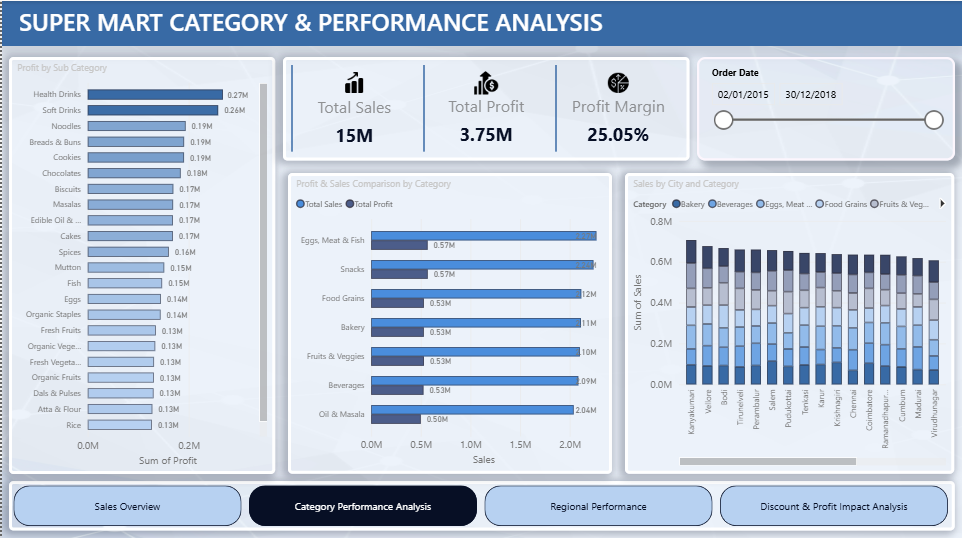

What the dashboard file says about the page in this screenshot:
{"tool":"powerbi","page":{"name":"Category Performance Analysis","canvas":[1280,720],"ordinal":1},"visuals":[{"type":"textbox","box":[0,0,1280,60],"z":0},{"type":"pageNavigator","box":[9.6,640,1260.7,66.1],"z":1000},{"type":"barChart","title":"Profit by Sub Category","fields":{"Category":["Supermart.Sub Category"],"Y":["Sum(Supermart.Profit)"]},"box":[9.6,74.3,355.1,556],"z":2000},{"type":"cardVisual","fields":{"Data":["Supermart.Total Sales","Supermart.Total Profit","Supermart.% Profit"]},"box":[374.4,74.3,542.3,137.6],"z":3000},{"type":"clusteredBarChart","title":"Profit & Sales Comparison by Category","fields":{"Y":["Supermart.Total Sales","Supermart.Total Profit"],"Category":["Supermart.Category"]},"box":[381.2,229.8,432.2,400.5],"z":4000},{"type":"slicer","fields":{"Values":["Supermart.Order Date"]},"box":[926.3,74.3,344.1,137.6],"z":5000},{"type":"columnChart","title":"Sales by City and Category","fields":{"Y":["Sum(Supermart.Sales)"],"Series":["Supermart.Category"],"Category":["Supermart.City"]},"box":[831.3,229.8,439.1,400.5],"z":6000}]}

Visuals, with their boxes in screenshot pixels (x1, y1, x2, y2), scaled from the page's 1280x720 canvas onto the 962x538 screenshot:
textbox: (x1=0, y1=0, x2=961, y2=45)
pageNavigator: (x1=7, y1=478, x2=955, y2=528)
"Profit by Sub Category" barChart: (x1=7, y1=56, x2=274, y2=471)
cardVisual - Supermart.Total Sales x Supermart.Total Profit: (x1=281, y1=56, x2=689, y2=158)
"Profit & Sales Comparison by Category" clusteredBarChart: (x1=286, y1=172, x2=611, y2=471)
slicer - Supermart.Order Date: (x1=696, y1=56, x2=955, y2=158)
"Sales by City and Category" columnChart: (x1=625, y1=172, x2=955, y2=471)
